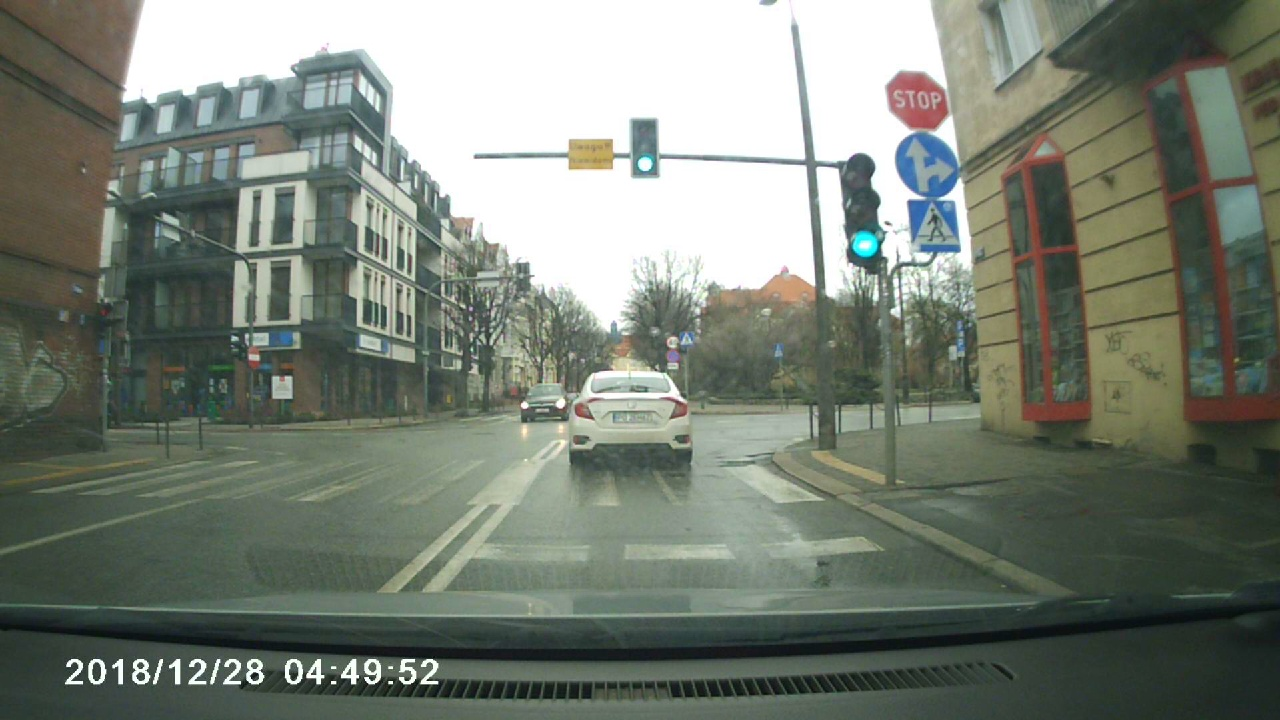B20: (885, 68, 953, 131)
C6: (892, 131, 962, 198)
D6: (903, 198, 968, 253)
